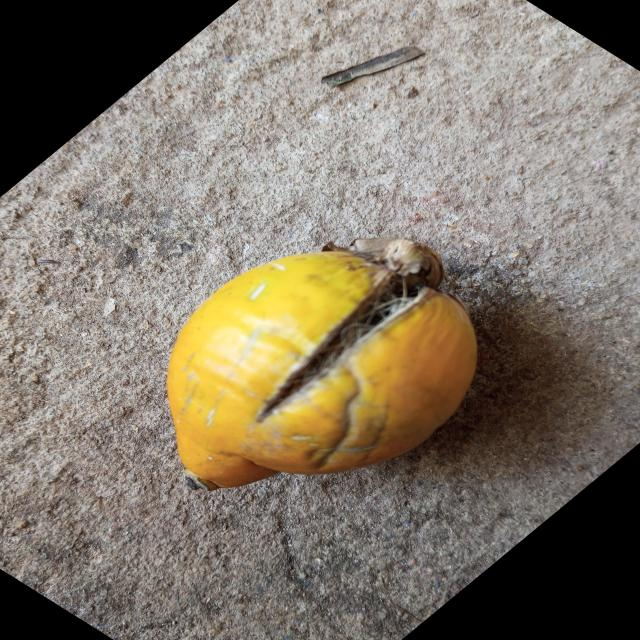damaged: (166, 241, 478, 491)
